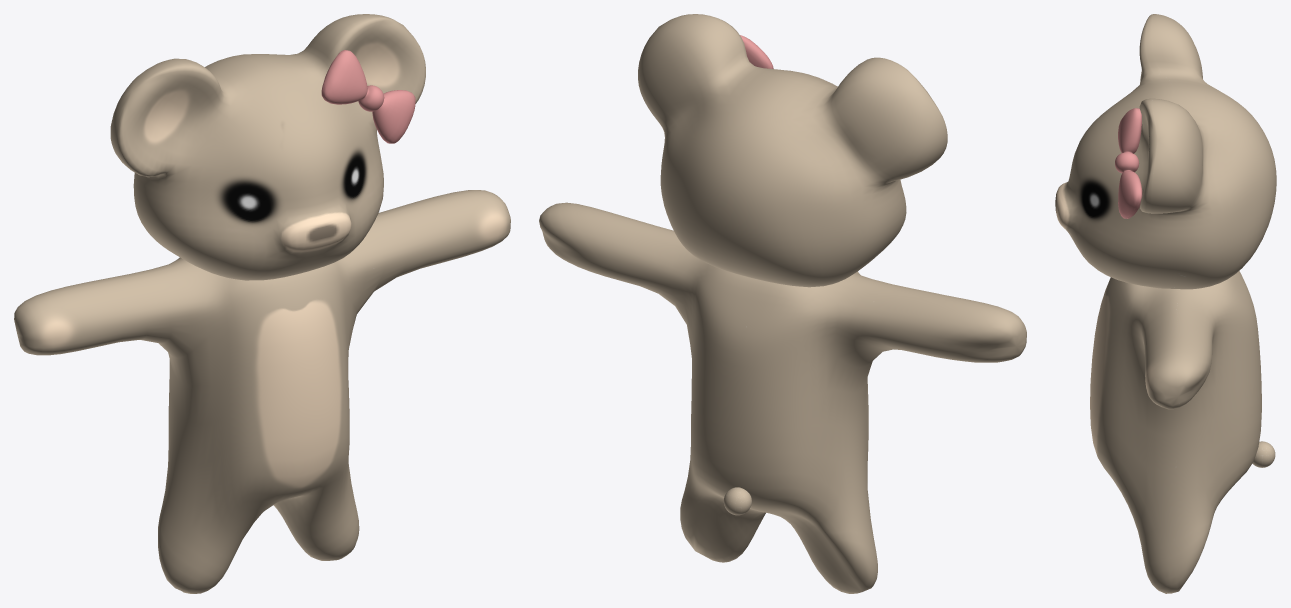
The model's file is Mama Bear.fbx.
3 renders of one model, left to right at view 1: azimuth 30°, elevation 25°; view 2: azimuth 150°, elevation 25°; view 3: azimuth 270°, elevation 25°, orthographic. The views are drawn at different scales.
Visible parts, largest first — view 1: Roundcube.003, head 2.003, bow; view 2: Roundcube.003, head 2.003, Roundcube.004; view 3: Roundcube.003, head 2.003, bow, Roundcube.004.
Boxes of the visible parts, x1,y1,x2,y2 form: Roundcube.003: (14, 190, 510, 593); head 2.003: (110, 14, 425, 280); bow: (321, 50, 415, 143); Roundcube.003: (539, 202, 1026, 593); head 2.003: (638, 14, 947, 287); Roundcube.004: (723, 487, 751, 515); Roundcube.003: (1090, 271, 1261, 593); head 2.003: (1055, 14, 1276, 289); bow: (1115, 108, 1142, 218); Roundcube.004: (1252, 441, 1275, 467).
Bounding box in the file's own units: 150 × 160 × 64.32.
4 materials, 3 textured.
